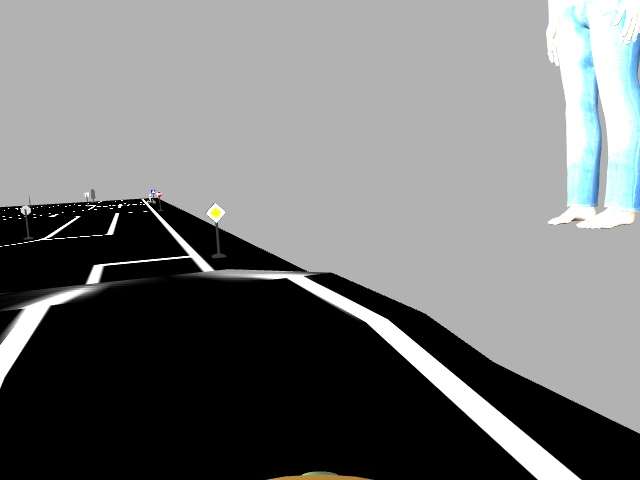Priority: (202, 201, 227, 225)
